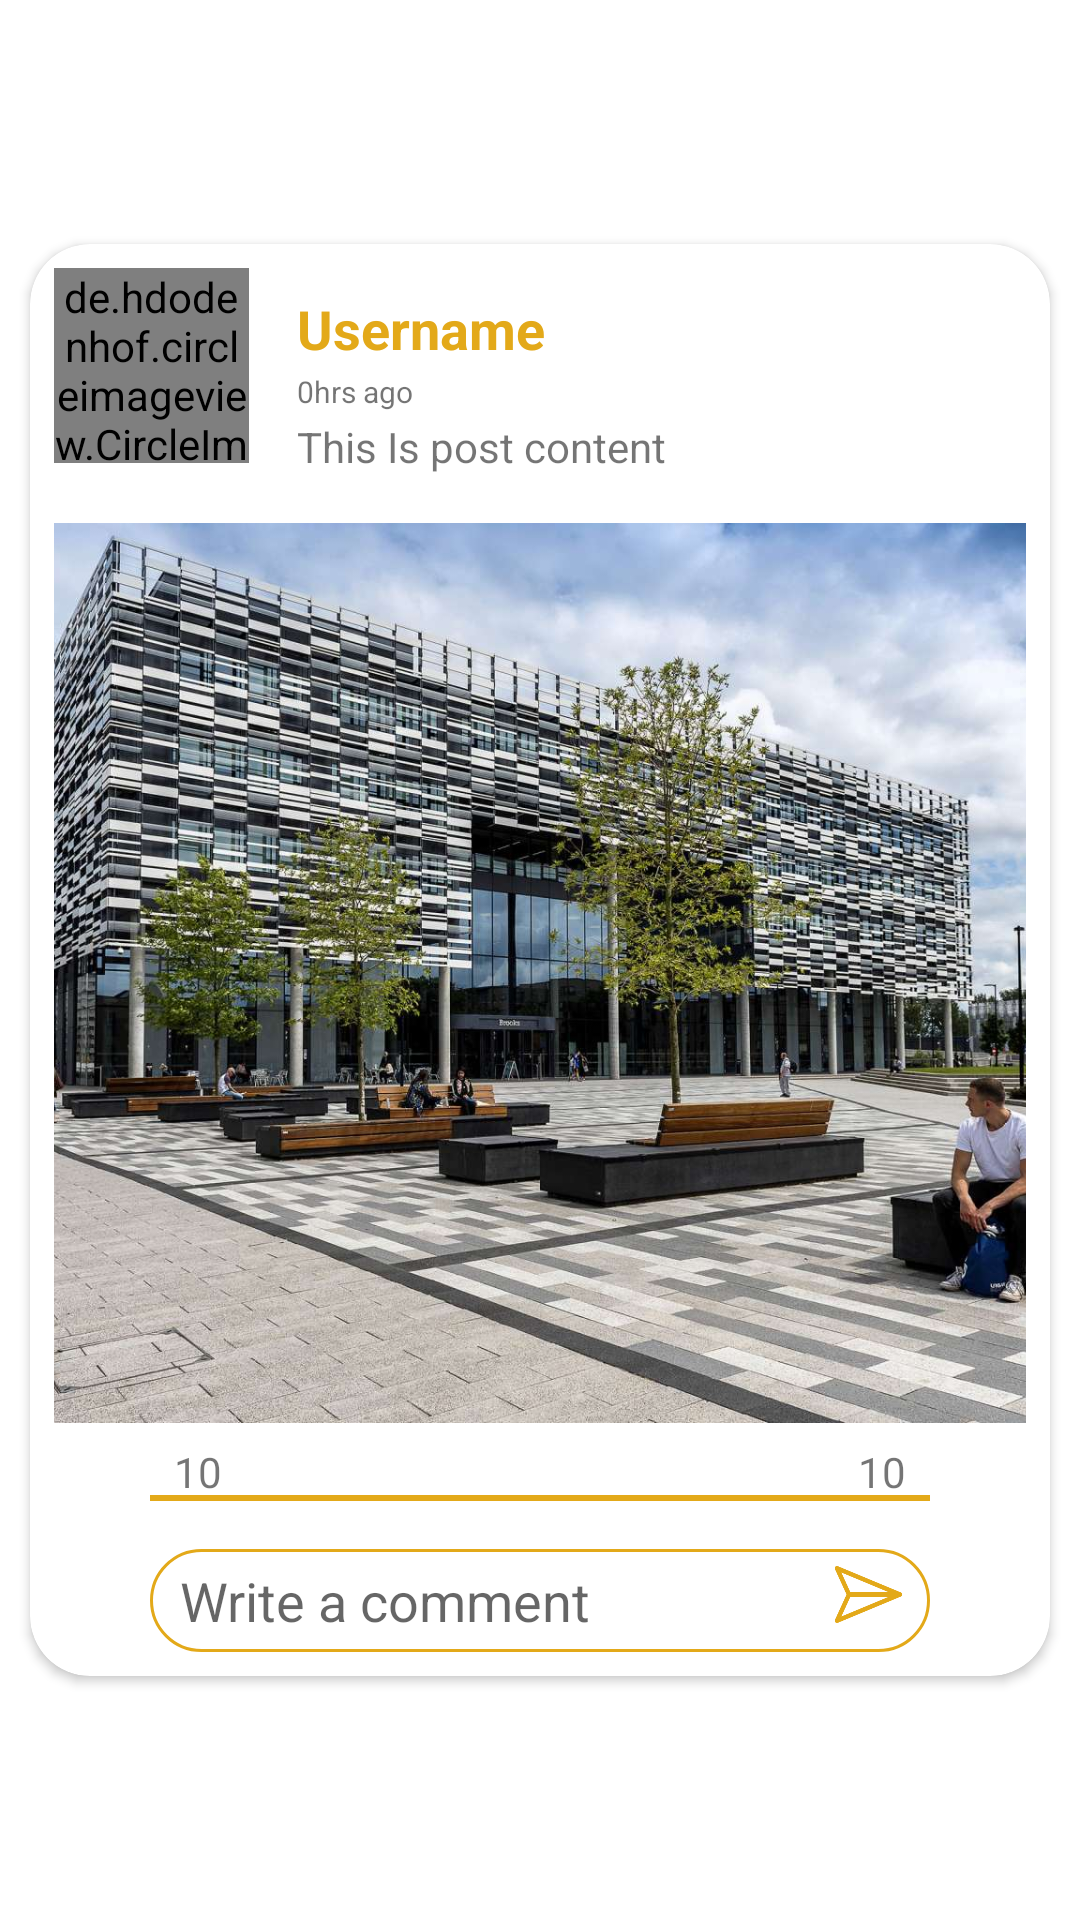

Icons on this 1080*1920 Android screen, each with the point to tap as point (x, y):
sendpost: point (868, 1594)
